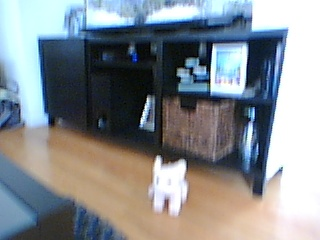piggy: (145, 154, 191, 218)
